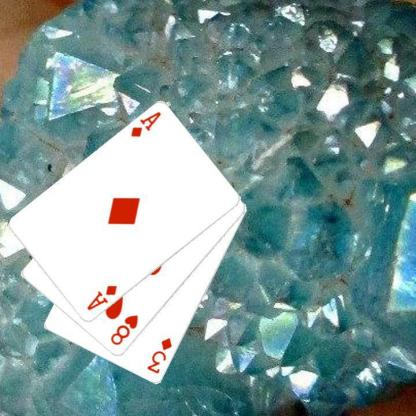3D: (144, 335, 173, 376)
8H: (107, 313, 140, 347)
AD: (128, 109, 162, 139), (84, 283, 118, 312)
